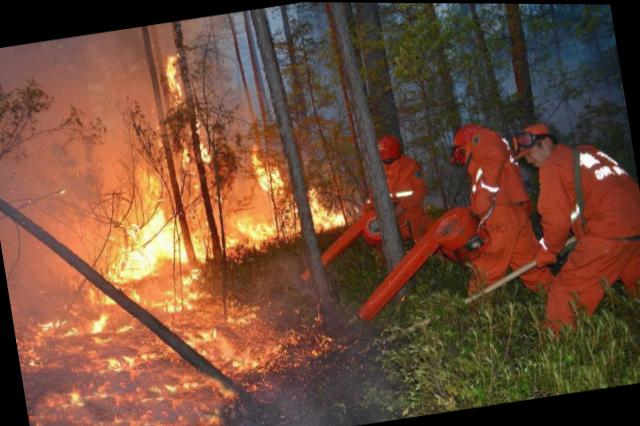fire: (0, 31, 381, 425)
